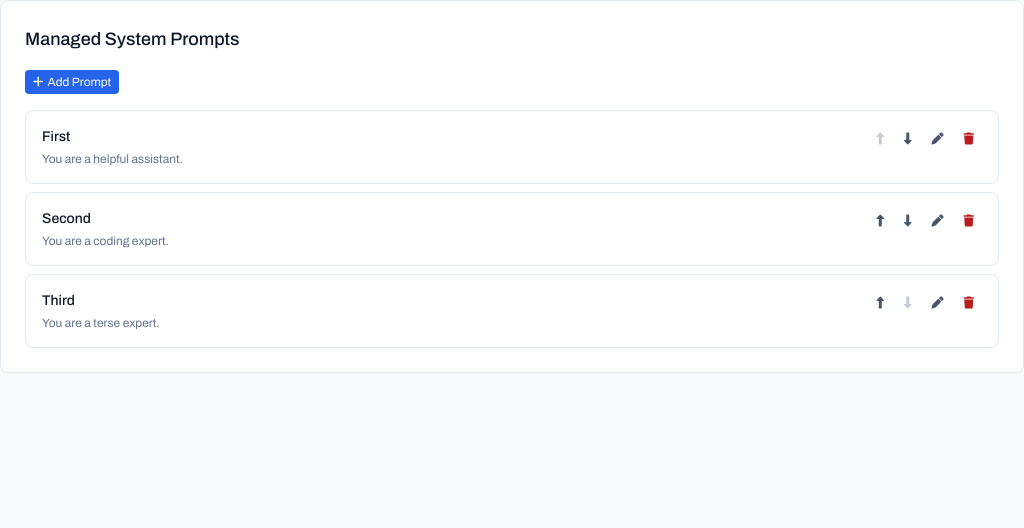
PromptsEditor › hides the add form when Cancel is clicked
Click the button "Add Prompt": (72, 82) [25, 70, 119, 94]
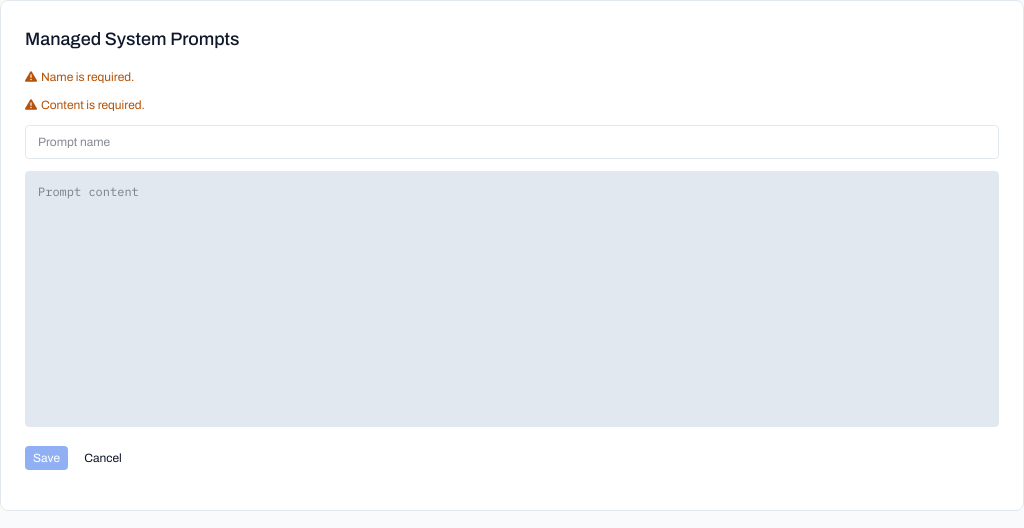
Click the button "Cancel": (103, 458) [76, 446, 130, 470]
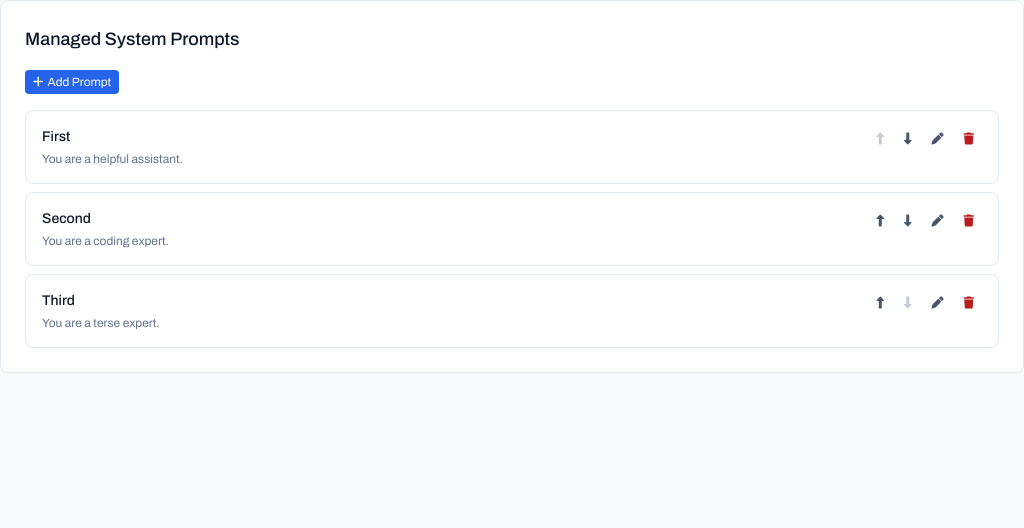
Check: the field with placeholder "Prompt name" is not shown
Check: the button "Add Prompt" is shown, box [25, 70, 119, 94]
